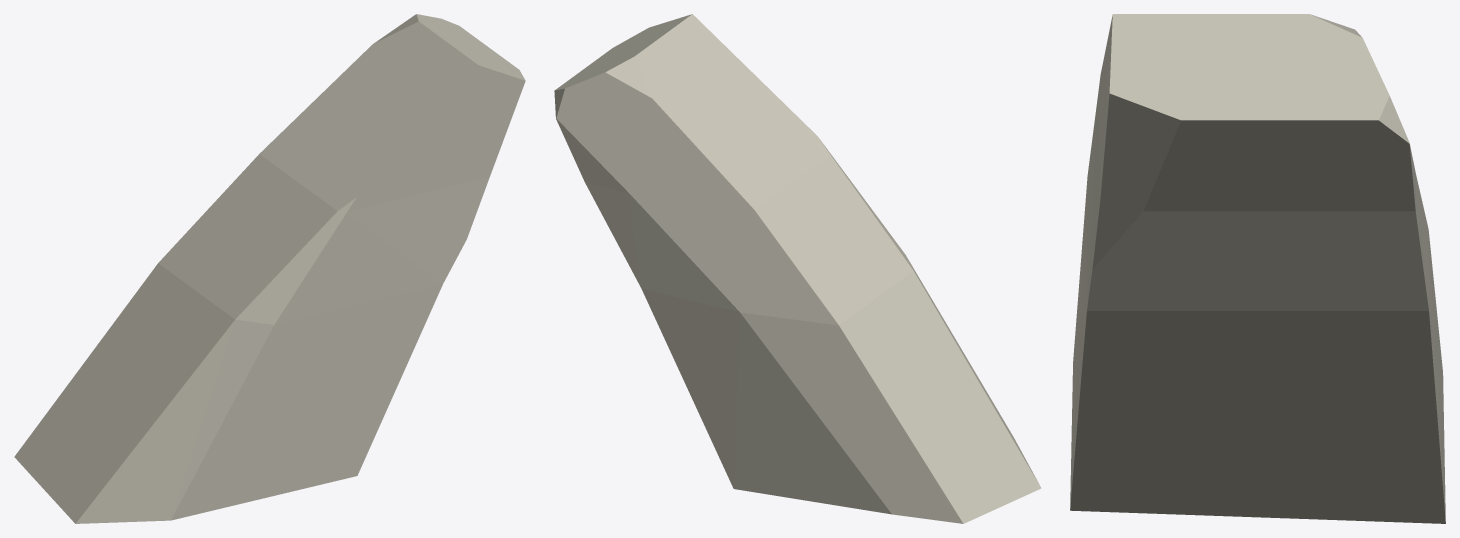
The model's file is Rock_Square_l_04.fbx.
3 renders of one model, left to right at view 1: azimuth 30°, elevation 25°; view 2: azimuth 150°, elevation 25°; view 3: azimuth 270°, elevation 25°, orthographic. The views are drawn at different scales.
Parts seen in each view (by area): view 1: Rock_Square_l_04; view 2: Rock_Square_l_04; view 3: Rock_Square_l_04.
Part boxes in pixels (x1,y1,x2,y2): Rock_Square_l_04: (14, 14, 525, 523); Rock_Square_l_04: (554, 14, 1041, 523); Rock_Square_l_04: (1070, 14, 1445, 523).
Bounding box in the file's own units: 5.05 × 4.15 × 2.26.
